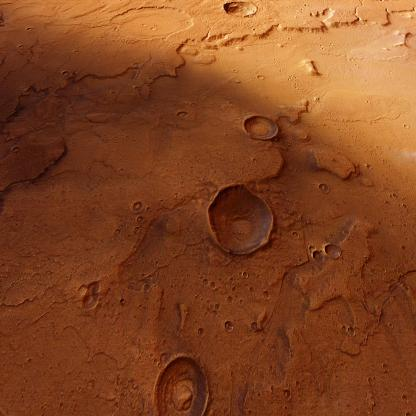craters: (204, 181, 278, 266), (147, 339, 212, 416), (105, 0, 204, 45), (241, 104, 281, 150), (127, 194, 157, 230), (79, 283, 107, 318), (218, 0, 262, 22), (321, 237, 346, 270), (304, 242, 324, 269), (313, 176, 330, 199), (9, 144, 26, 160), (366, 160, 376, 182), (292, 227, 301, 239)
